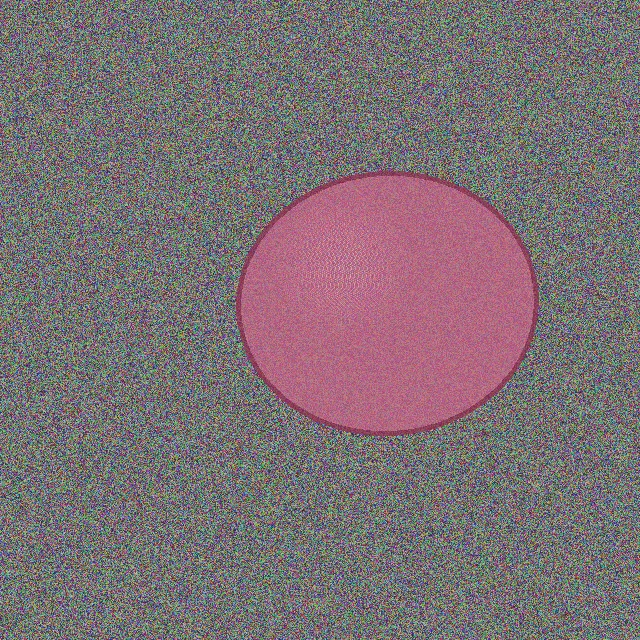lens: (238, 173, 536, 433)
